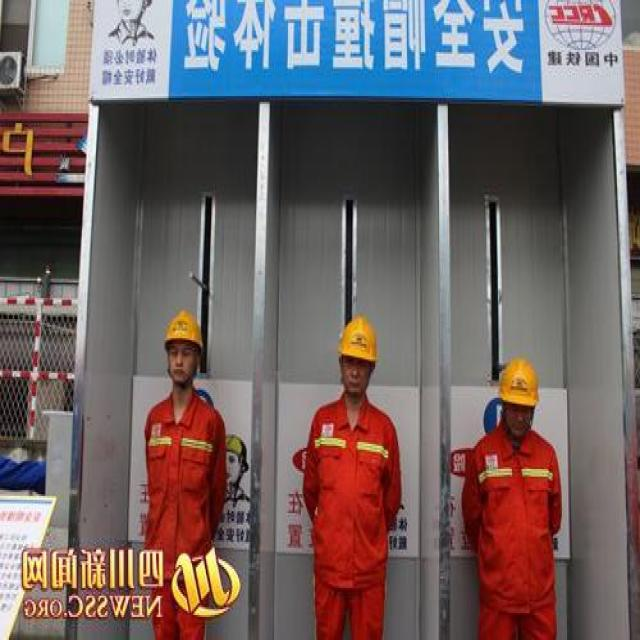Reflective-Jacket: (300, 396, 403, 580), (461, 428, 567, 604), (136, 388, 234, 567)
Safety-Helmet: (494, 354, 544, 413), (333, 311, 383, 369), (160, 304, 206, 354)
